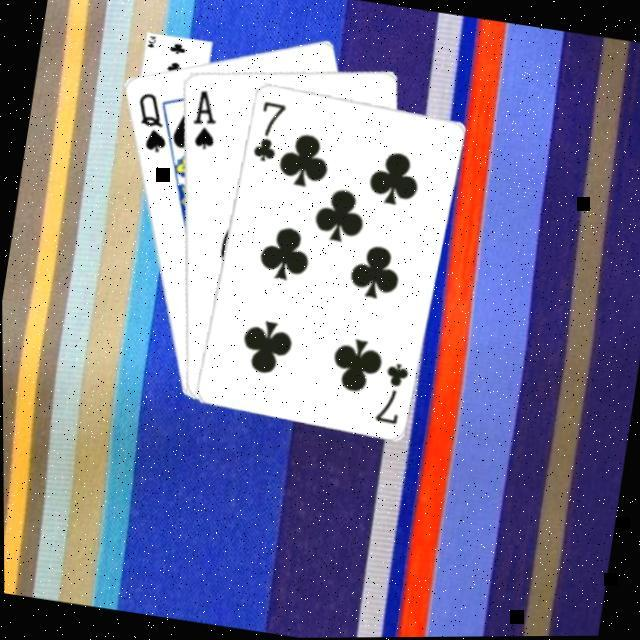7C: (369, 355, 410, 427), (246, 94, 288, 164)
AS: (182, 83, 222, 152)
QS: (124, 86, 174, 156)
